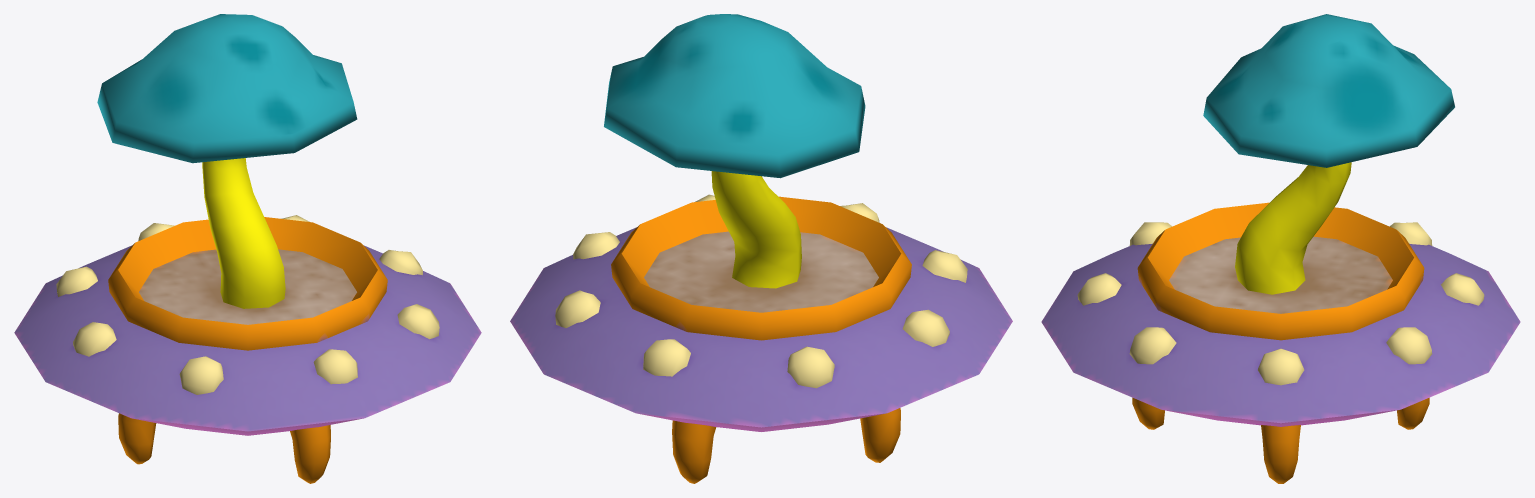
Rendered from UFO_Plant.fbx.
The picture shows the model from 3 angles, left to right: view 1: azimuth 30°, elevation 25°; view 2: azimuth 150°, elevation 25°; view 3: azimuth 270°, elevation 25°; orthographic projection. The views are drawn at different scales.
Visible parts, largest first — view 1: Cube.001; view 2: Cube.001; view 3: Cube.001.
Boxes of the visible parts, <box> form: Cube.001: <box>14,14,481,483</box>; Cube.001: <box>510,14,1012,483</box>; Cube.001: <box>1041,14,1520,483</box>.
Bounding box in the file's own units: 48.32 × 45.19 × 48.32.
Materials: 1 (1 with a texture image).
